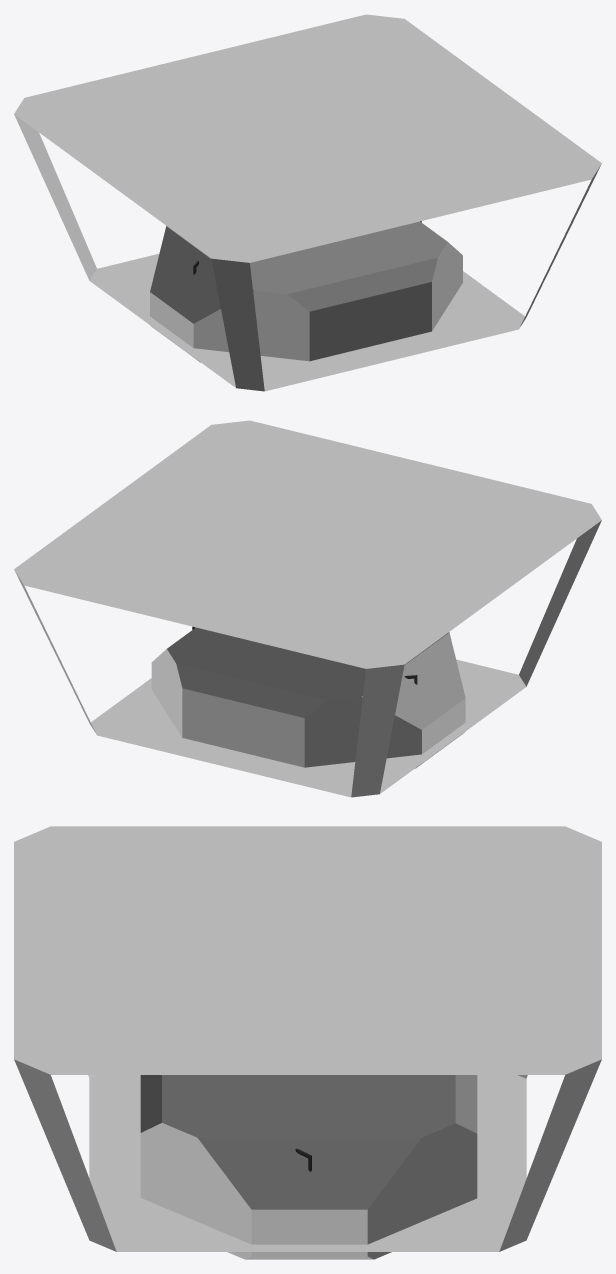
File: Ring.fbx
The picture shows the model from 3 angles, top to bottom: view 1: azimuth 30°, elevation 25°; view 2: azimuth 150°, elevation 25°; view 3: azimuth 270°, elevation 25°; orthographic projection. The views are drawn at different scales.
Visible parts, largest first — view 1: Object, Ring_ConvexHulls, Object002; view 2: Object, Ring_ConvexHulls, Object002; view 3: Object, Ring_ConvexHulls, Object002.
Boxes of the visible parts, bbox=[...] form: Object: bbox=[14, 14, 601, 391]; Ring_ConvexHulls: bbox=[150, 221, 462, 362]; Object002: bbox=[14, 114, 601, 391]; Object: bbox=[14, 420, 601, 797]; Ring_ConvexHulls: bbox=[151, 627, 465, 768]; Object002: bbox=[14, 520, 601, 797]; Object: bbox=[14, 826, 601, 1251]; Ring_ConvexHulls: bbox=[140, 1075, 477, 1259]; Object002: bbox=[14, 1059, 601, 1251].
Bounding box in the file's own units: 1274 × 542 × 1274.
